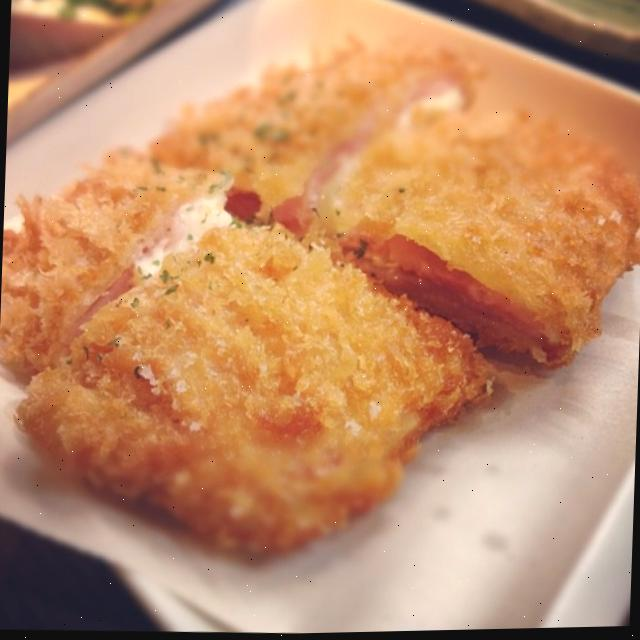炸货点心: (16, 18, 640, 580)
